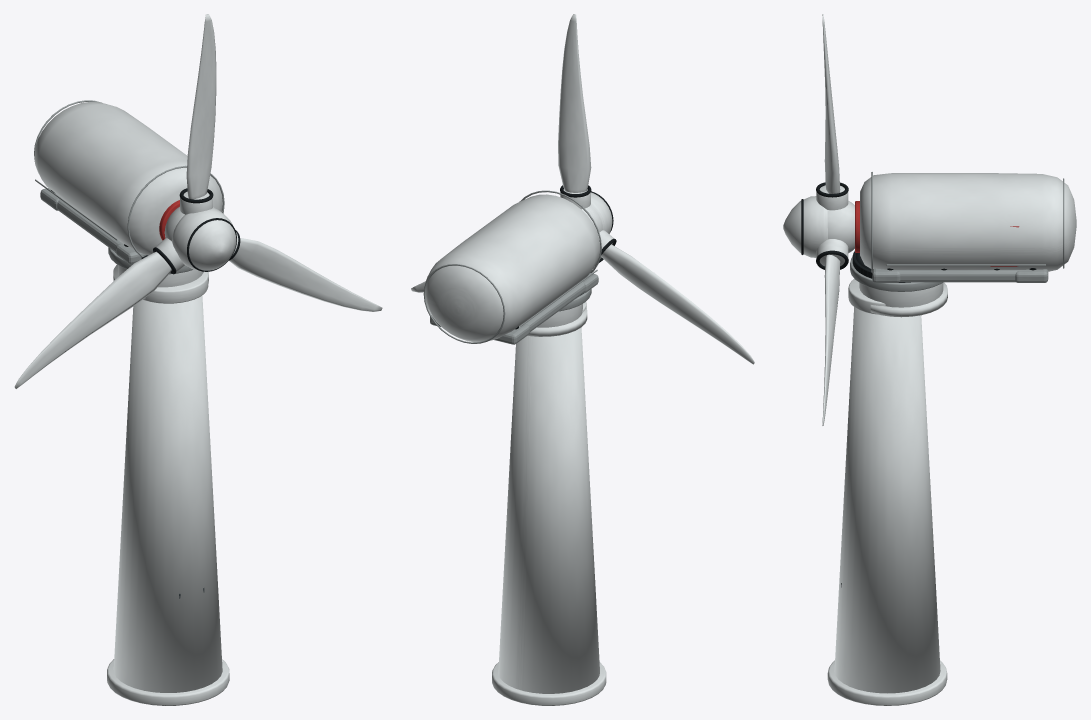
Rendered from C_dismantlable_turbine_v2_low_raw.glb.
3 views of the same model, side by side, from view 1: azimuth 30°, elevation 25°; view 2: azimuth 150°, elevation 25°; view 3: azimuth 270°, elevation 25° (orthographic). The views are drawn at different scales.
Parts seen in each view (by area): view 1: PART__TOWER, PART__NACELLE_SHELL, PART__BLADE_C, PART__BLADE_B, PART__BLADE_A, PART__SPINNER, PART__HUB, PART__BEDPLATE, PART__YAW_BASE; view 2: PART__TOWER, PART__NACELLE_SHELL, PART__BLADE_A, PART__BLADE_C, PART__BEDPLATE, PART__YAW_BASE, PART__HUB; view 3: PART__TOWER, PART__NACELLE_SHELL, PART__YAW_BASE, PART__HUB, PART__BEDPLATE, PART__SPINNER, PART__BLADE_B, PART__BLADE_A.
Part boxes in pixels (x1=…): PART__TOWER: x1=107, y1=271, x2=229, y2=705; PART__NACELLE_SHELL: x1=34, y1=100, x2=224, y2=257; PART__BLADE_C: x1=14, y1=251, x2=171, y2=388; PART__BLADE_B: x1=229, y1=238, x2=382, y2=311; PART__BLADE_A: x1=186, y1=14, x2=216, y2=199; PART__SPINNER: x1=172, y1=208, x2=236, y2=270; PART__HUB: x1=153, y1=188, x2=240, y2=274; PART__BEDPLATE: x1=40, y1=188, x2=145, y2=264; PART__YAW_BASE: x1=108, y1=247, x2=208, y2=299; PART__TOWER: x1=492, y1=302, x2=606, y2=705; PART__NACELLE_SHELL: x1=423, y1=190, x2=601, y2=343; PART__BLADE_A: x1=558, y1=14, x2=591, y2=192; PART__BLADE_C: x1=601, y1=244, x2=754, y2=364; PART__BEDPLATE: x1=430, y1=273, x2=598, y2=344; PART__YAW_BASE: x1=528, y1=289, x2=591, y2=336; PART__HUB: x1=560, y1=185, x2=616, y2=262; PART__TOWER: x1=827, y1=279, x2=947, y2=705; PART__NACELLE_SHELL: x1=860, y1=172, x2=1076, y2=272; PART__YAW_BASE: x1=850, y1=257, x2=947, y2=317; PART__HUB: x1=801, y1=182, x2=854, y2=269; PART__BEDPLATE: x1=872, y1=268, x2=1048, y2=282; PART__SPINNER: x1=783, y1=196, x2=827, y2=257; PART__BLADE_B: x1=822, y1=254, x2=840, y2=425; PART__BLADE_A: x1=822, y1=14, x2=840, y2=193.
Size of the model in its own units: 5.39 by 9.65 by 3.83.
1 material, 1 textured.
